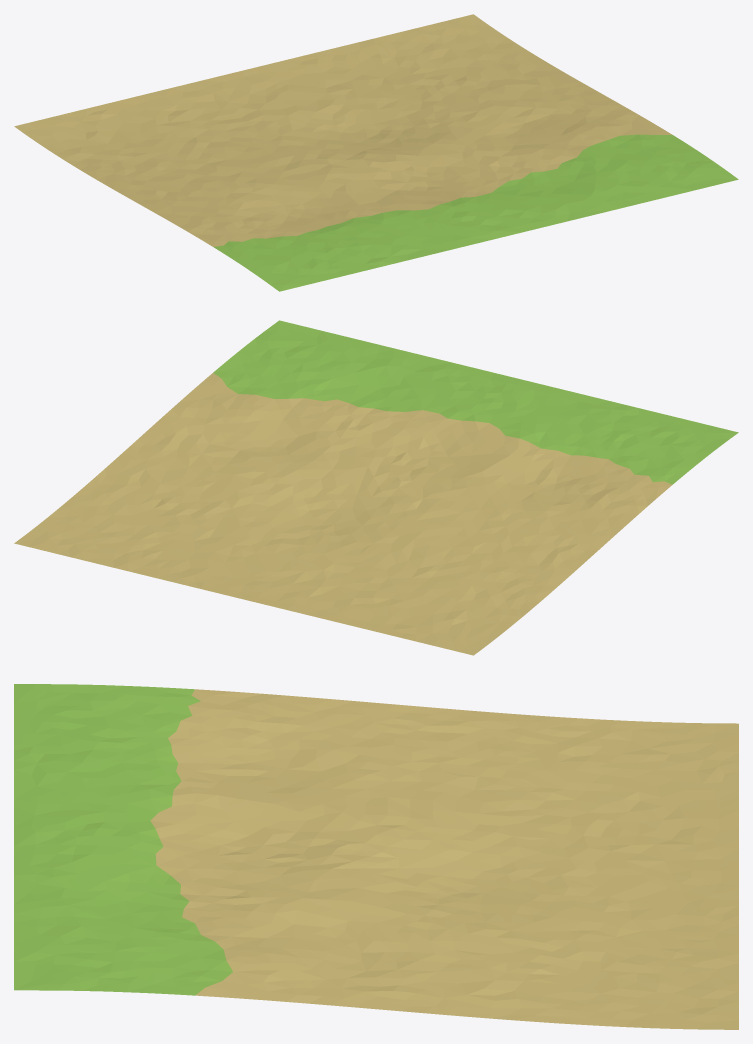
File: river_end_l_d_01.glb
3 renders of one model, top to bottom at view 1: azimuth 30°, elevation 25°; view 2: azimuth 150°, elevation 25°; view 3: azimuth 270°, elevation 25°, orthographic. The views are drawn at different scales.
Visible parts, largest first — view 1: CPT_River_End_L_d_01; view 2: CPT_River_End_L_d_01; view 3: CPT_River_End_L_d_01.
Part boxes in pixels (bbox=[...]): CPT_River_End_L_d_01: bbox=[14, 14, 738, 291]; CPT_River_End_L_d_01: bbox=[14, 320, 738, 655]; CPT_River_End_L_d_01: bbox=[14, 684, 738, 1029].
Bounding box in the file's own units: 100 × 6.16 × 100.
Materials: 1 (1 with a texture image).
